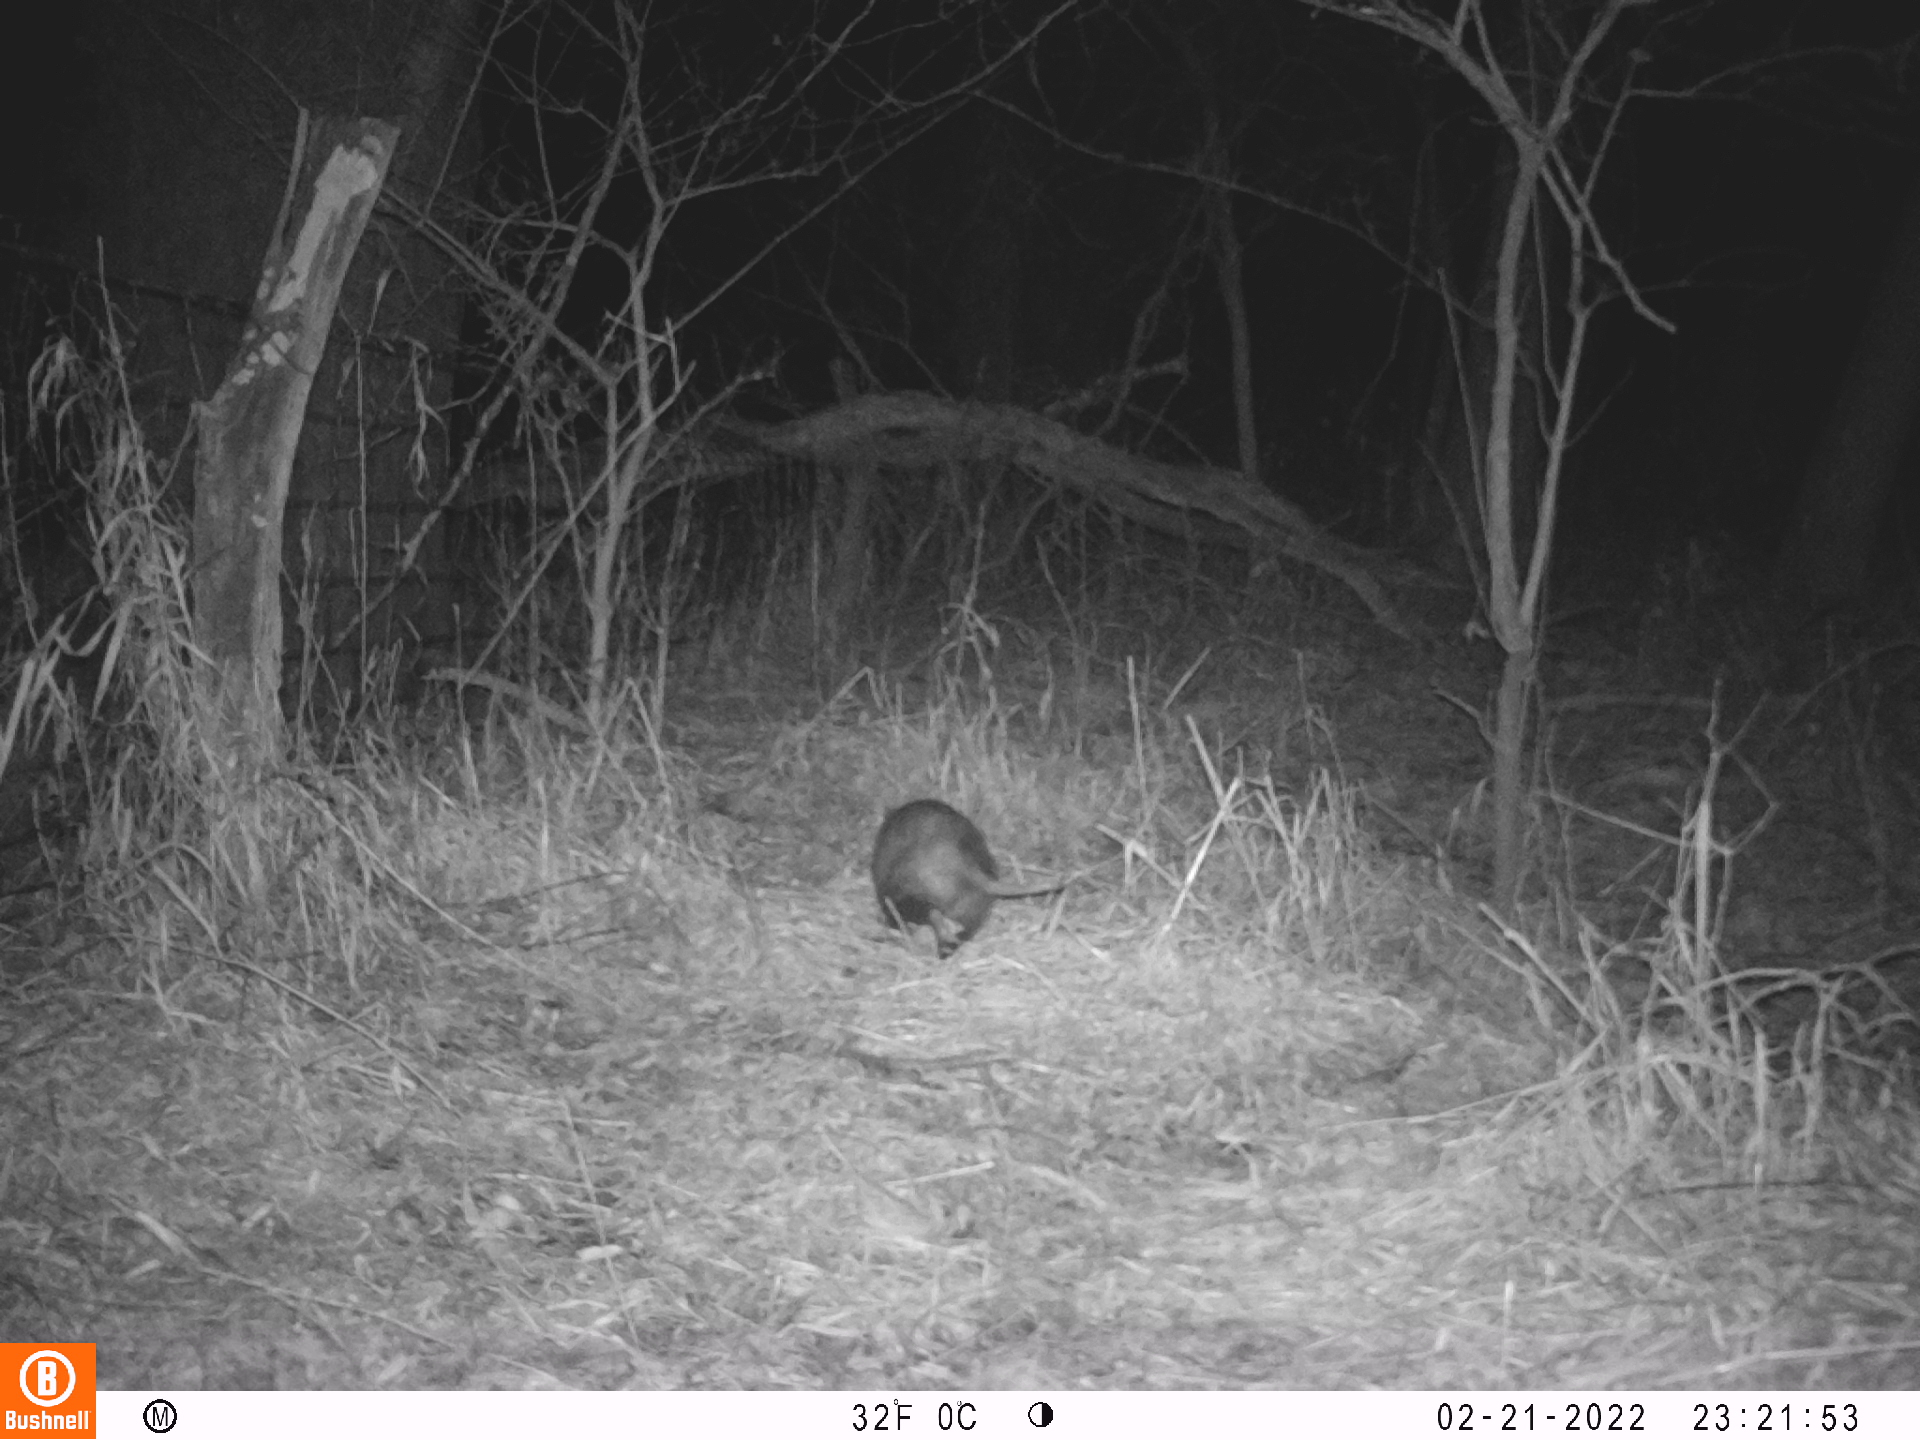Possum: (868, 797, 1073, 950)
